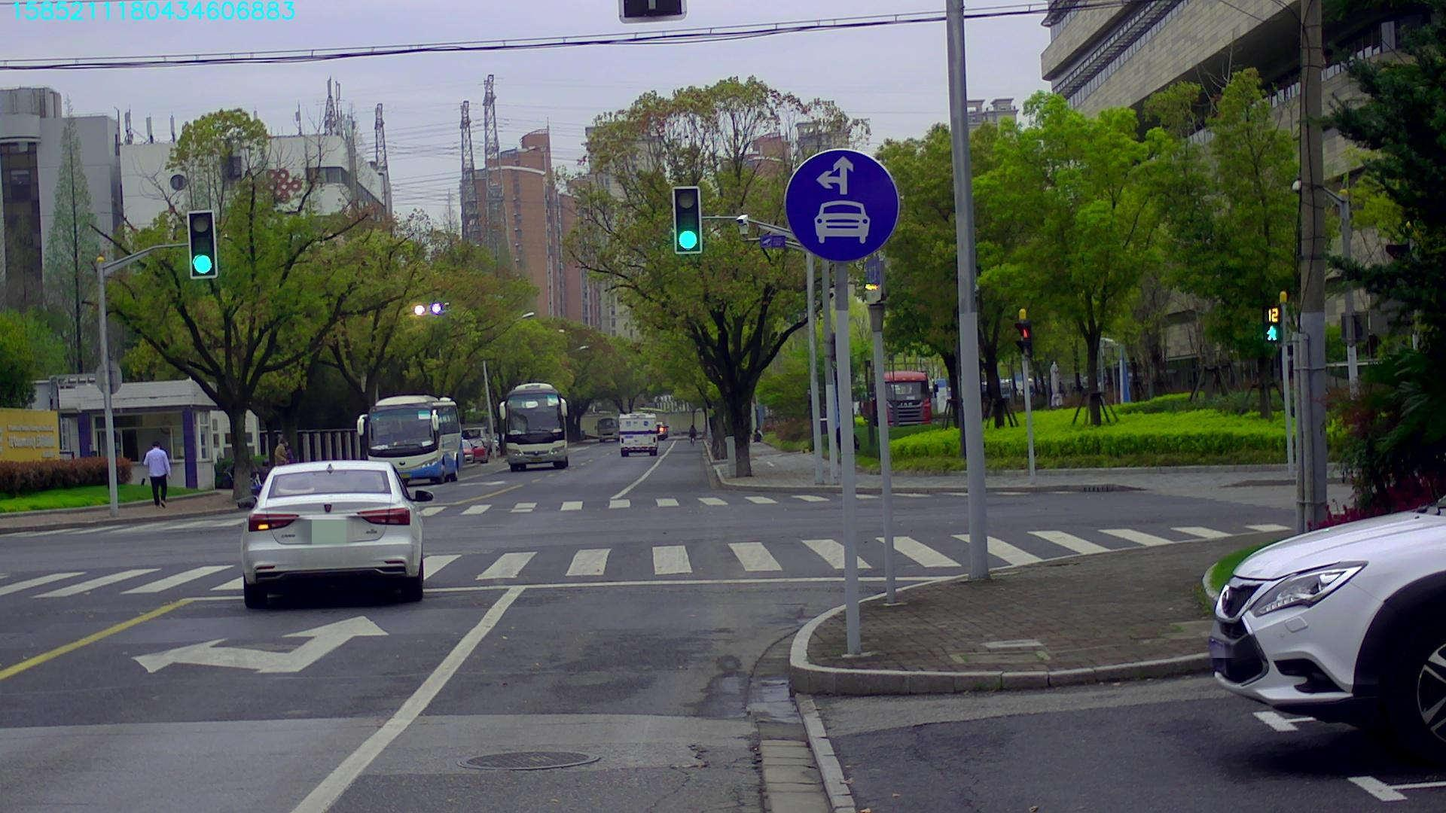green: (188, 212, 215, 277), (674, 187, 700, 252)
